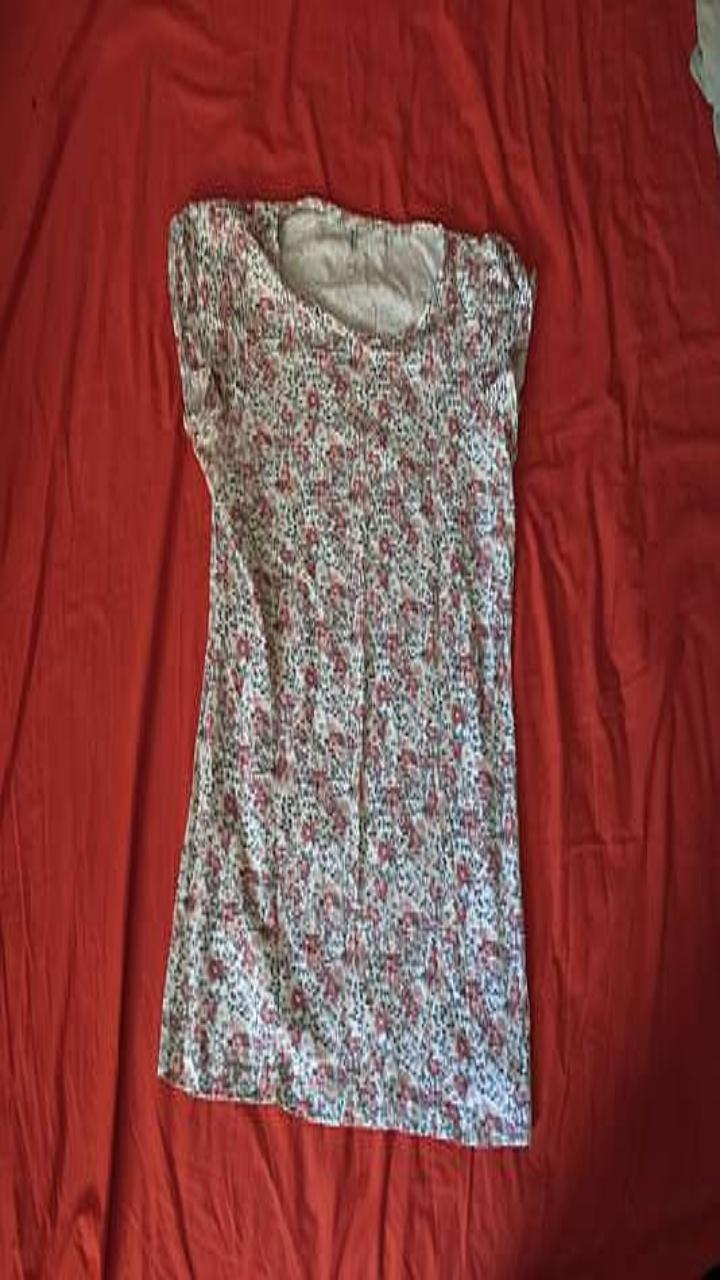T-Shirt: (159, 196, 533, 1145)
